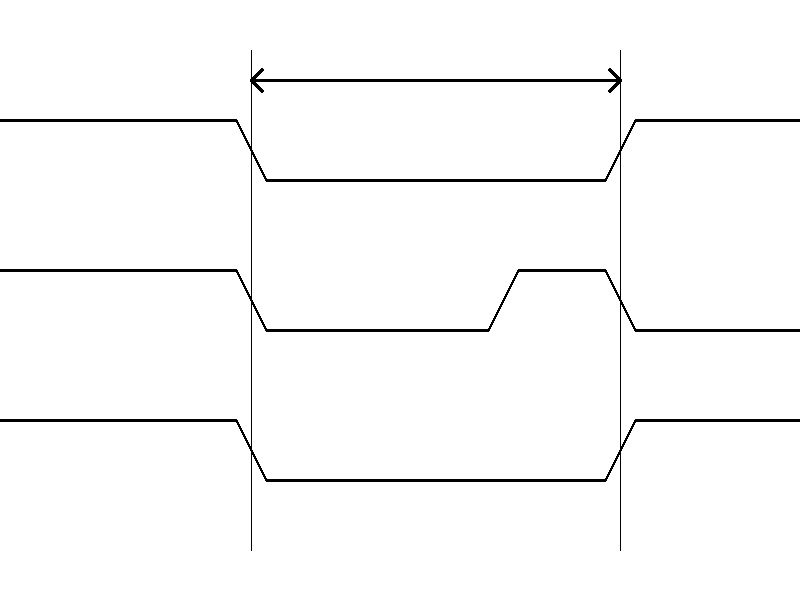double_arrow: (251, 65, 620, 95)
